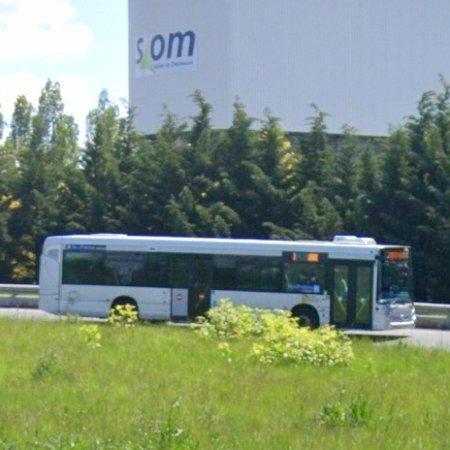buses: (39, 234, 416, 329)
